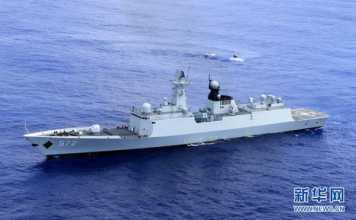warship: (20, 68, 334, 154)
